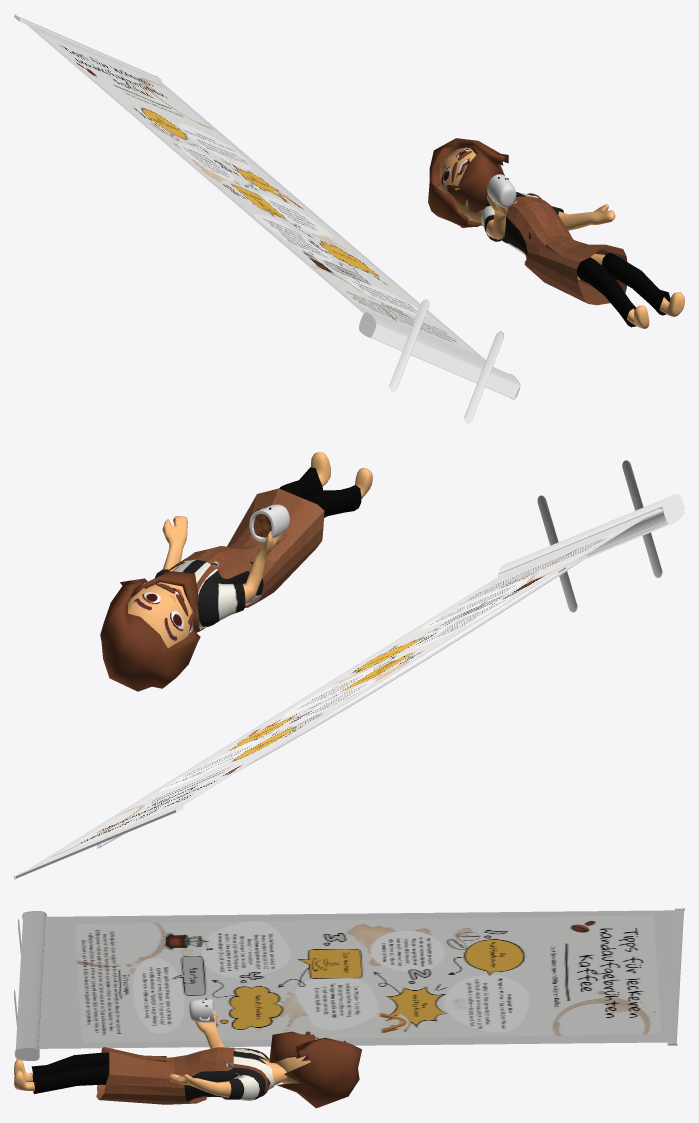
Rendered from GLB_3_Coffeeman.glb.
3 renders of one model, top to bottom at view 1: azimuth 30°, elevation 25°; view 2: azimuth 150°, elevation 25°; view 3: azimuth 270°, elevation 25°, orthographic. The views are drawn at different scales.
Visible parts, largest first — view 1: Plane, Cube.002_4, Cube_2; view 2: Plane, Cube.002_4, Cube_2; view 3: Plane, Cube.002_4, Cube_2.
Boxes of the visible parts, x1=… form: Plane: x1=14, y1=14, x2=520, y2=423; Cube.002_4: x1=428, y1=138, x2=684, y2=328; Cube_2: x1=487, y1=174, x2=516, y2=207; Plane: x1=14, y1=460, x2=684, y2=879; Cube.002_4: x1=100, y1=452, x2=372, y2=691; Cube_2: x1=249, y1=504, x2=289, y2=542; Plane: x1=14, y1=908, x2=684, y2=1060; Cube.002_4: x1=14, y1=1010, x2=361, y2=1108; Cube_2: x1=189, y1=999, x2=214, y2=1022.
Bounding box in the file's own units: 0.0853 × 0.034 × 0.1748.
9 materials, 5 textured.
